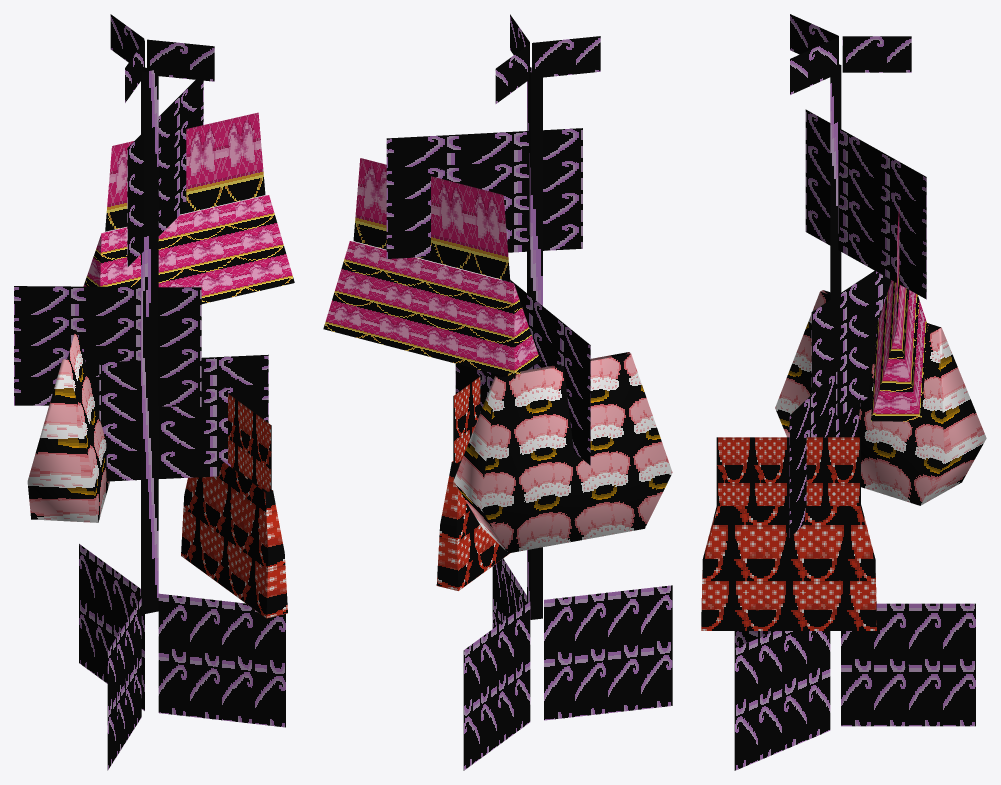
Rendered from 3889kg3_shp11.gltf.
3 renders of one model, left to right at view 1: azimuth 30°, elevation 25°; view 2: azimuth 150°, elevation 25°; view 3: azimuth 270°, elevation 25°, orthographic. The views are drawn at different scales.
Parts seen in each view (by area): view 1: 3889kg3_shp11; view 2: 3889kg3_shp11; view 3: 3889kg3_shp11.
Part boxes in pixels (x1=…): 3889kg3_shp11: x1=14, y1=14, x2=294, y2=770; 3889kg3_shp11: x1=323, y1=14, x2=672, y2=770; 3889kg3_shp11: x1=701, y1=14, x2=986, y2=770.
Bounding box in the file's own units: 0.8816 × 1.92 × 0.72.
4 materials, 4 textured.
